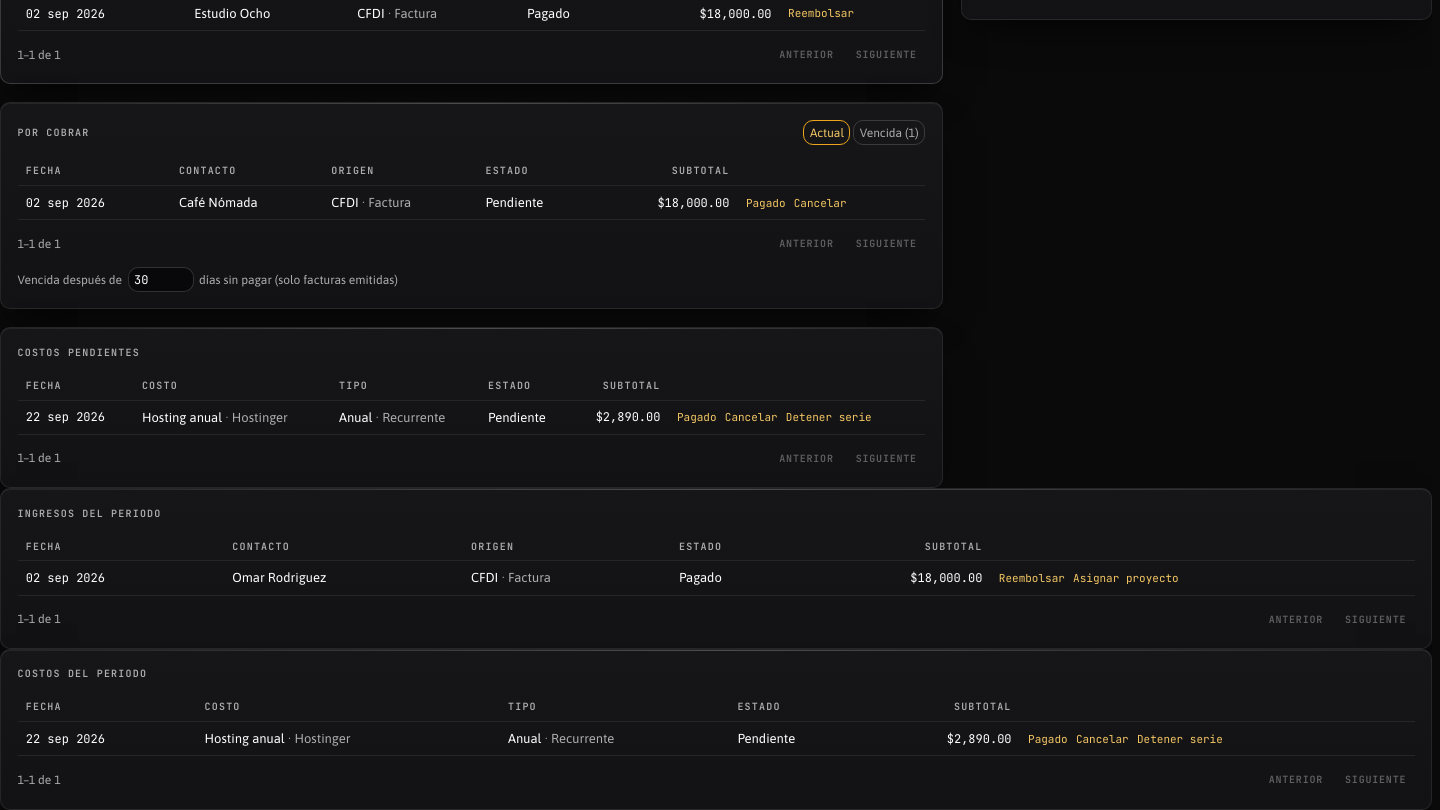
Finanzas › assigns an imported invoice to a Proyecto and reads Finanzas again
(page scrolled)
Click the button "Asignar proyecto". click: (1126, 578)
box: [1073, 570, 1179, 586]
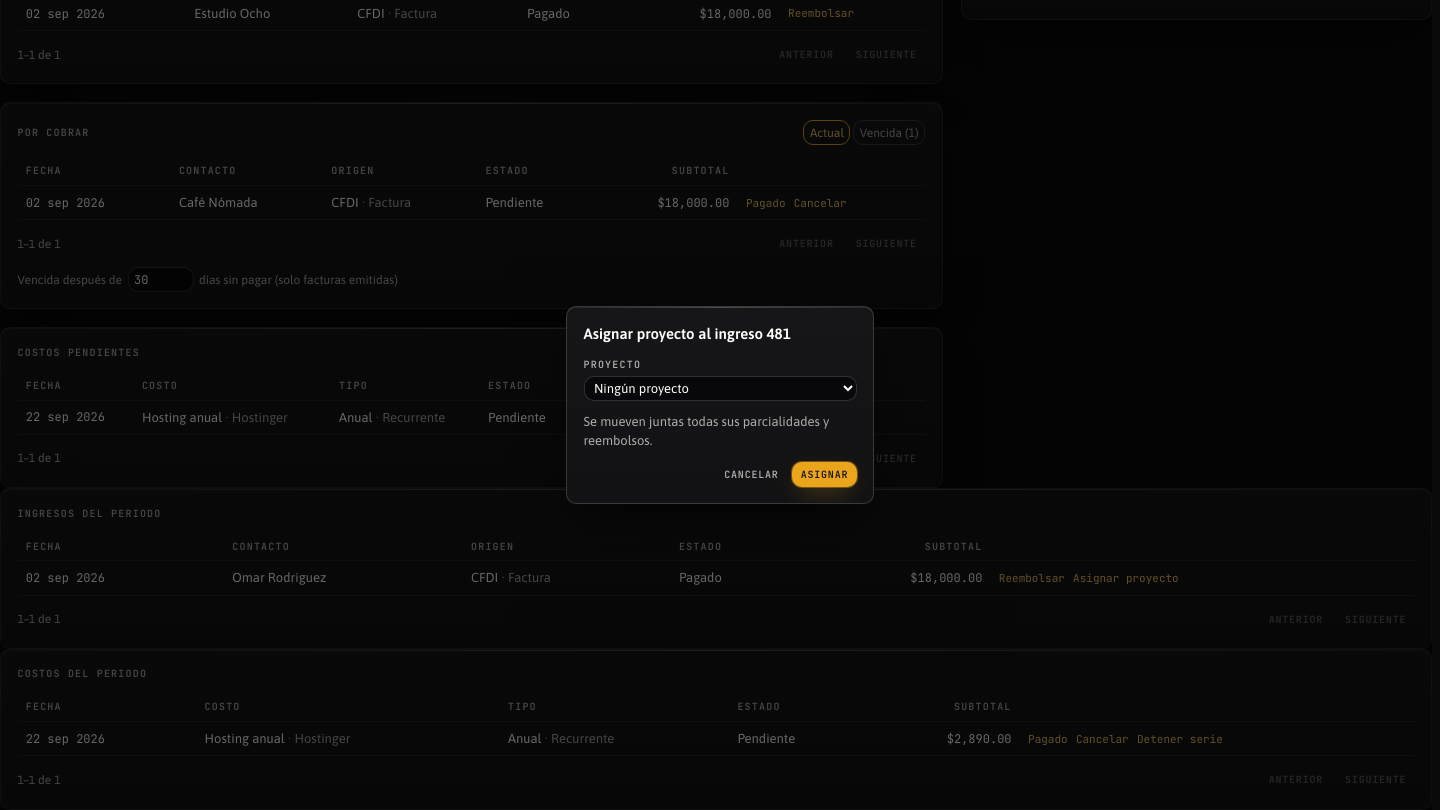
Select "Cantina 48 · Completado" in the dropdown labelled "Proyecto". click: (720, 388)
box: [584, 376, 856, 401]
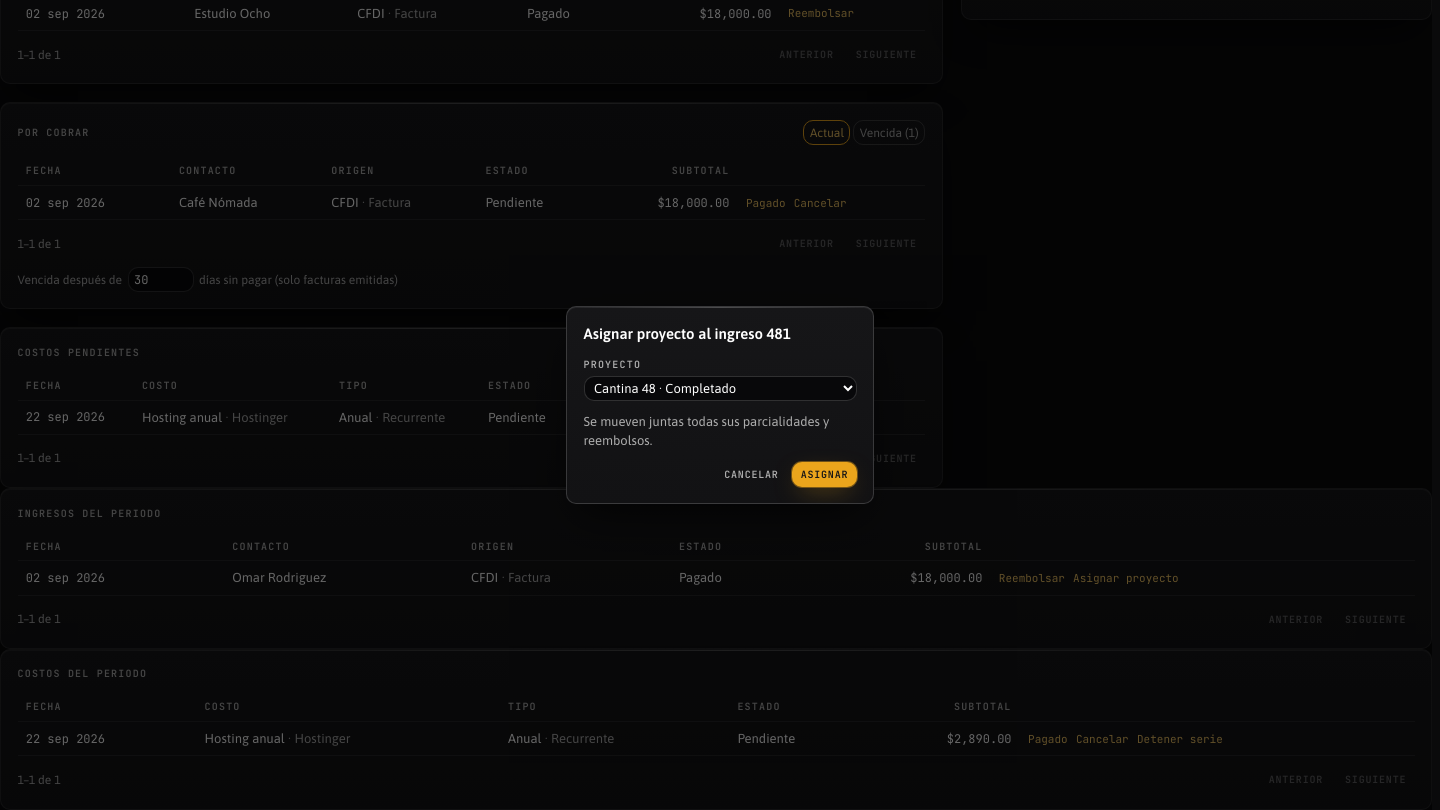
Click the button "Asignar". click: (824, 474)
box: [792, 462, 856, 487]
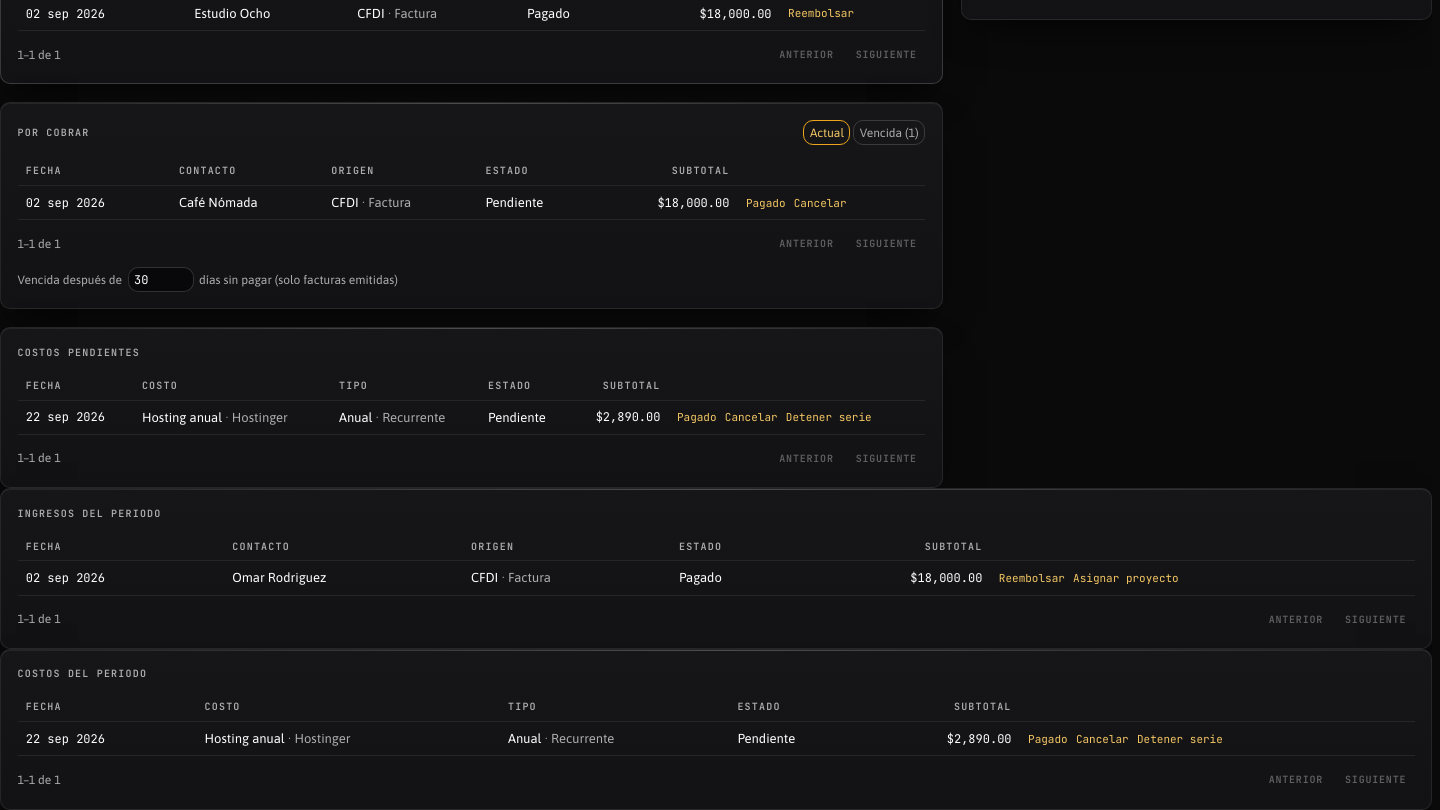
Result: the dialog is gone
